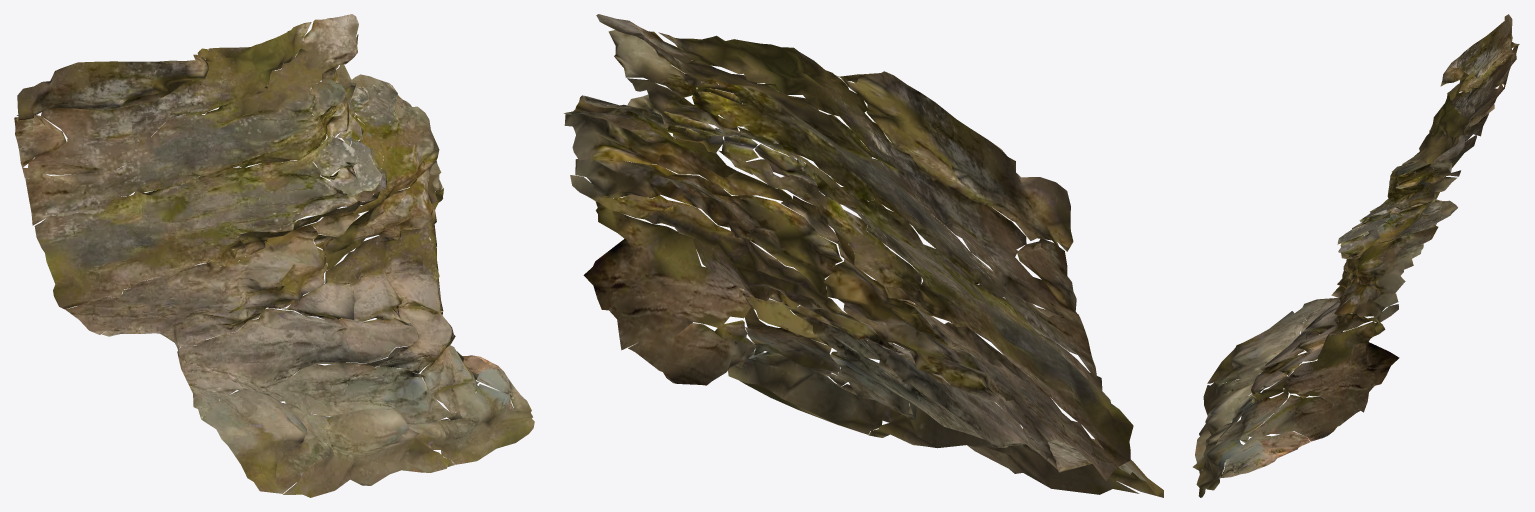
File: rock_face_02.glb
3 renders of one model, left to right at view 1: azimuth 30°, elevation 25°; view 2: azimuth 150°, elevation 25°; view 3: azimuth 270°, elevation 25°, orthographic. The views are drawn at different scales.
Parts seen in each view (by area): view 1: rock_face_02; view 2: rock_face_02; view 3: rock_face_02.
Part boxes in pixels (x1,y1,x2,y2): rock_face_02: [14, 14, 534, 497]; rock_face_02: [564, 14, 1163, 497]; rock_face_02: [1193, 14, 1519, 497].
Size of the model in its own units: 2.71 by 2.48 by 2.14.
Materials: 1 (1 with a texture image).
